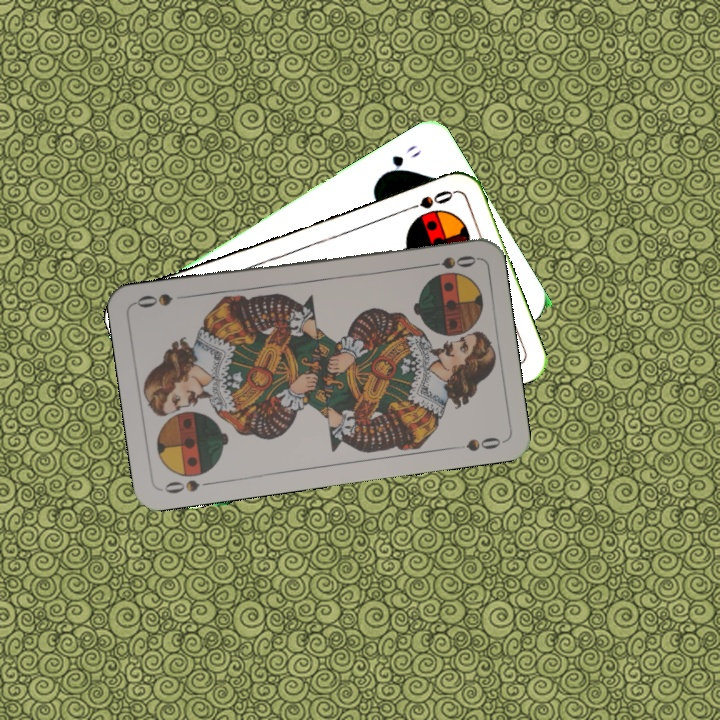GO: (377, 140, 425, 180)
SO: (399, 186, 456, 215), (419, 251, 479, 271), (160, 476, 217, 496)
